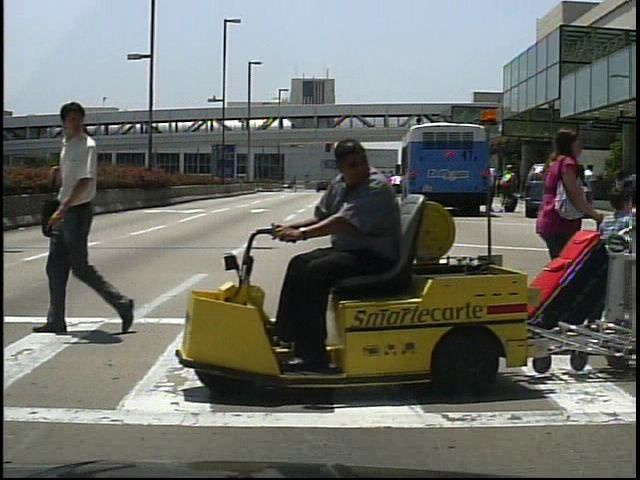person: (266, 134, 412, 373), (34, 99, 142, 333), (527, 121, 591, 354), (579, 180, 632, 326), (580, 162, 601, 214), (501, 164, 521, 218), (480, 162, 500, 216)
